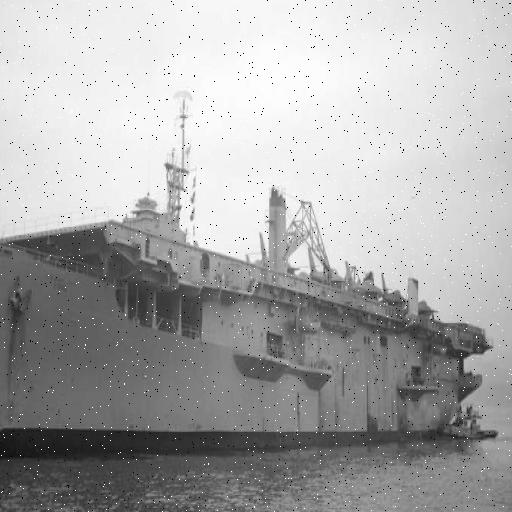Portanaves: (1, 36, 499, 465)
